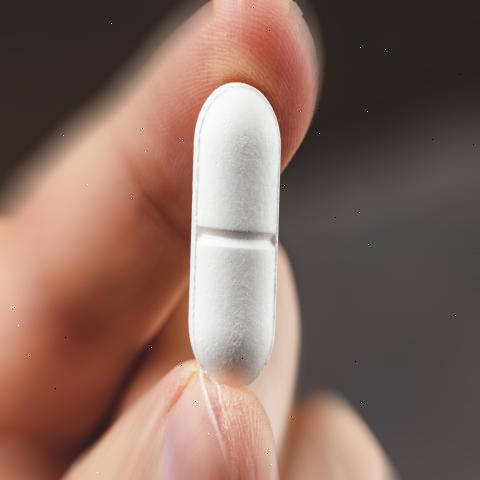Pill: (166, 46, 317, 380)
